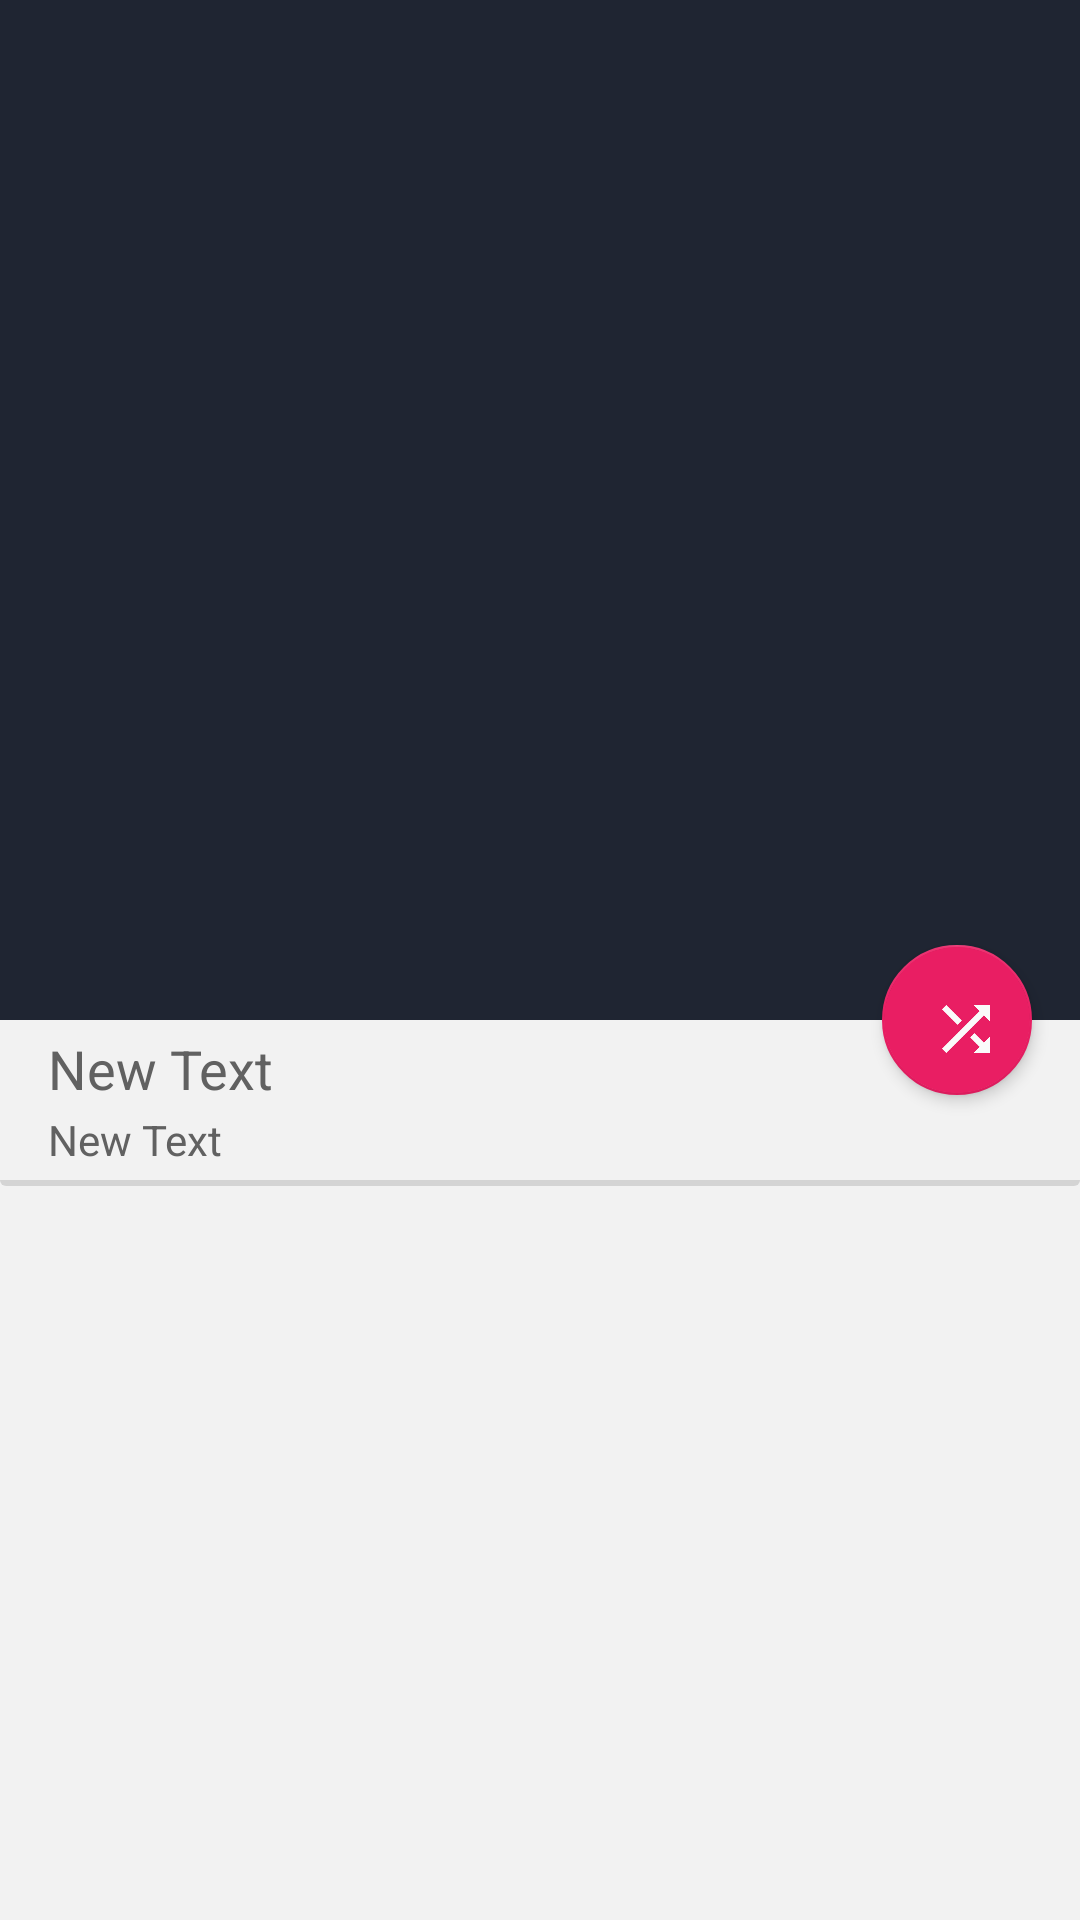

Icon click points for this 1080px x 1920px phone screenshot, format (x,y):
shuffle floating: (957,1020)
